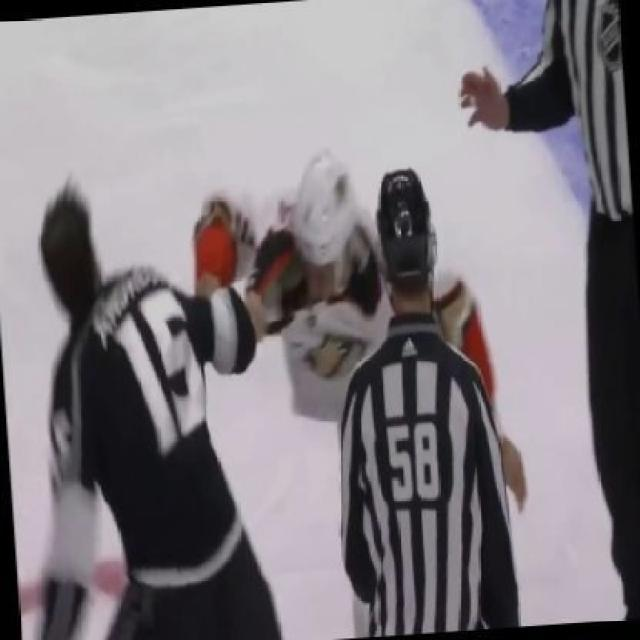fight: (0, 92, 543, 638)
non-fight: (275, 143, 563, 639)
